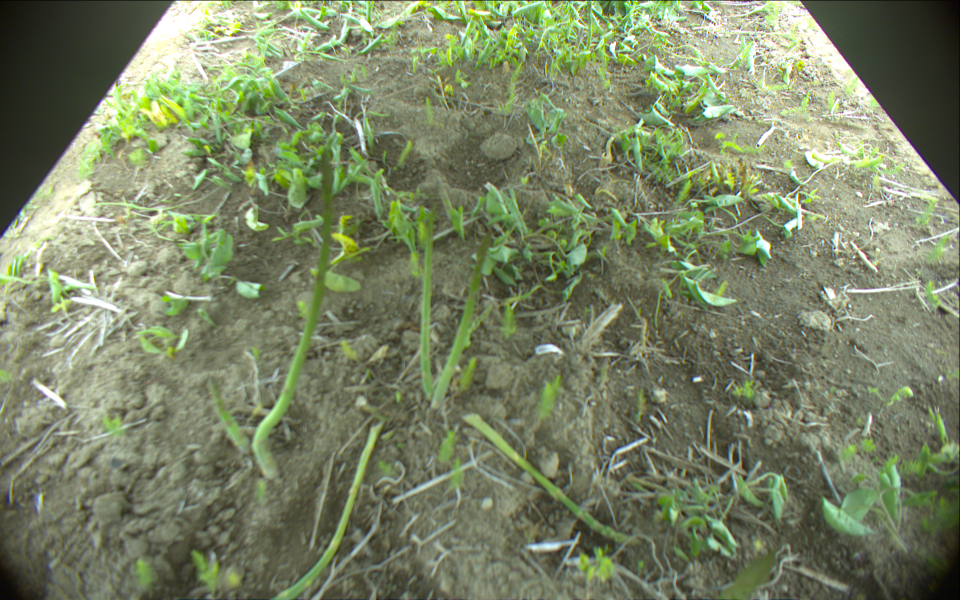aspa: (250, 148, 332, 477), (467, 416, 642, 548), (271, 423, 384, 600), (434, 227, 494, 405), (208, 380, 250, 456), (419, 214, 436, 397), (585, 1, 593, 50)
